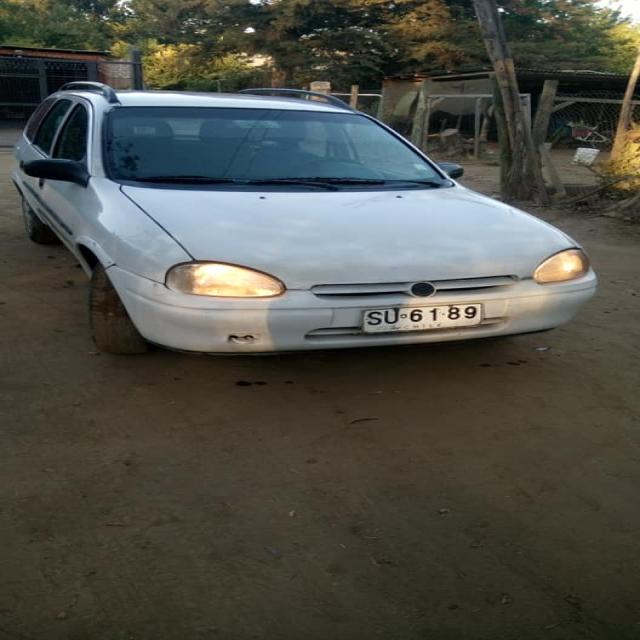patente: (358, 302, 484, 334)
